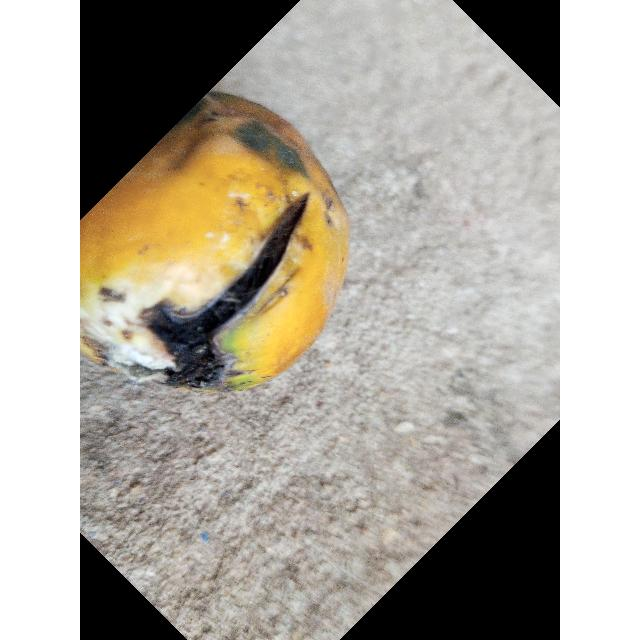damaged: (80, 93, 350, 392)
